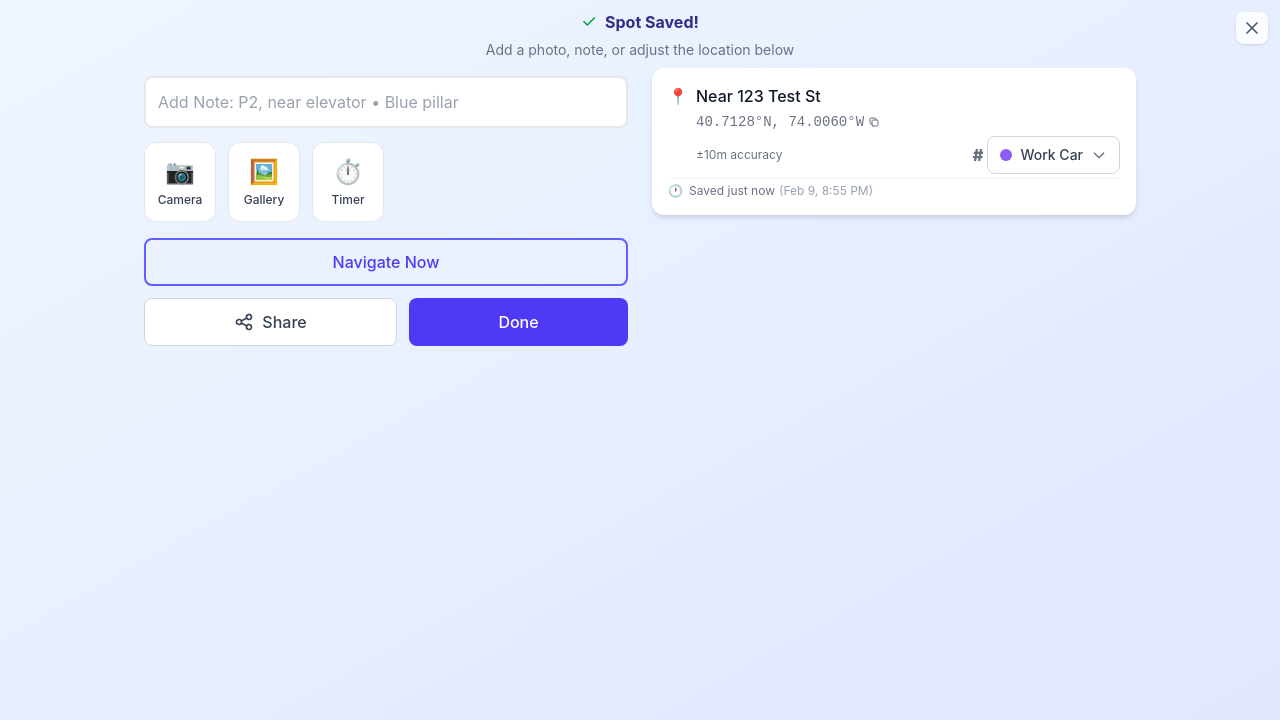
Test: SpotConfirmationPage › should open camera when camera action is clicked
Step 1. Click the button with test id "action-button-camera" → (180, 182), box [144,142,216,222]
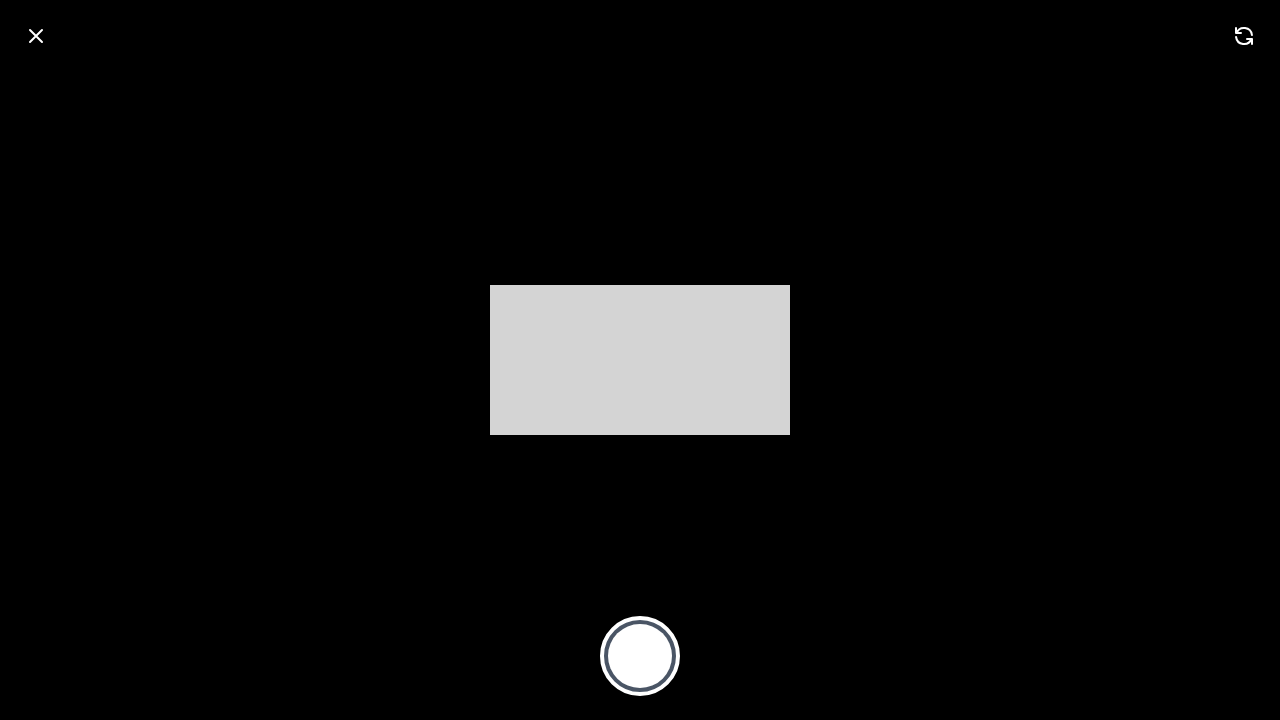
Now the element with test id "camera-capture" is shown
